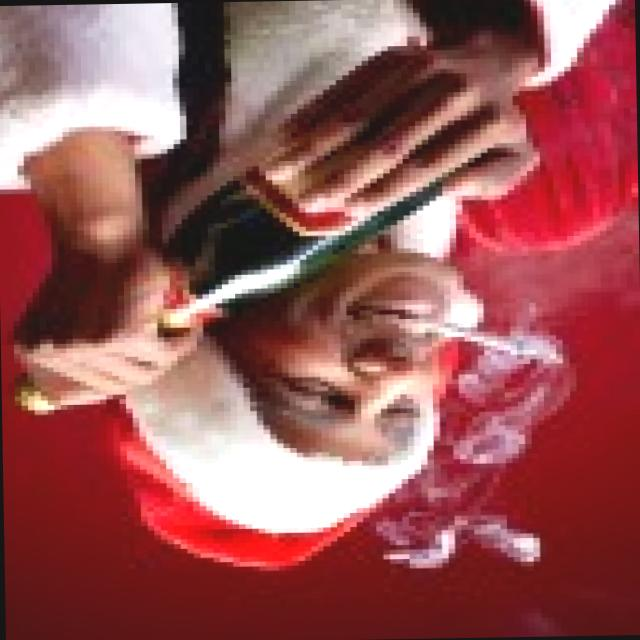smoke: (424, 306, 534, 361)
